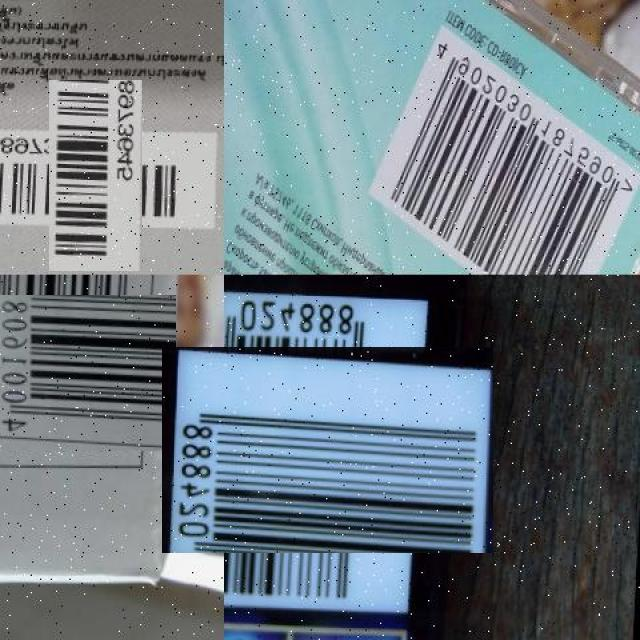Barcode: (193, 315, 462, 584), (361, 20, 640, 275), (0, 285, 166, 461), (24, 105, 167, 247)
